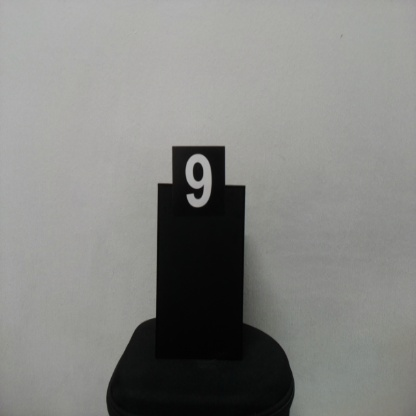id_9: (172, 148, 225, 223)
